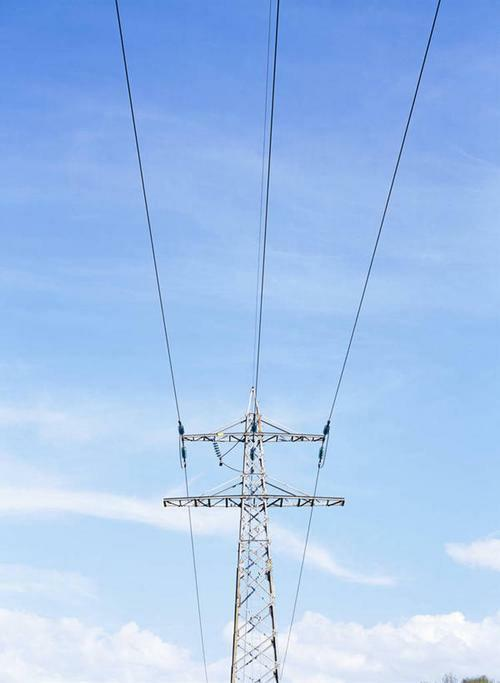power_tower: (145, 382, 349, 683)
